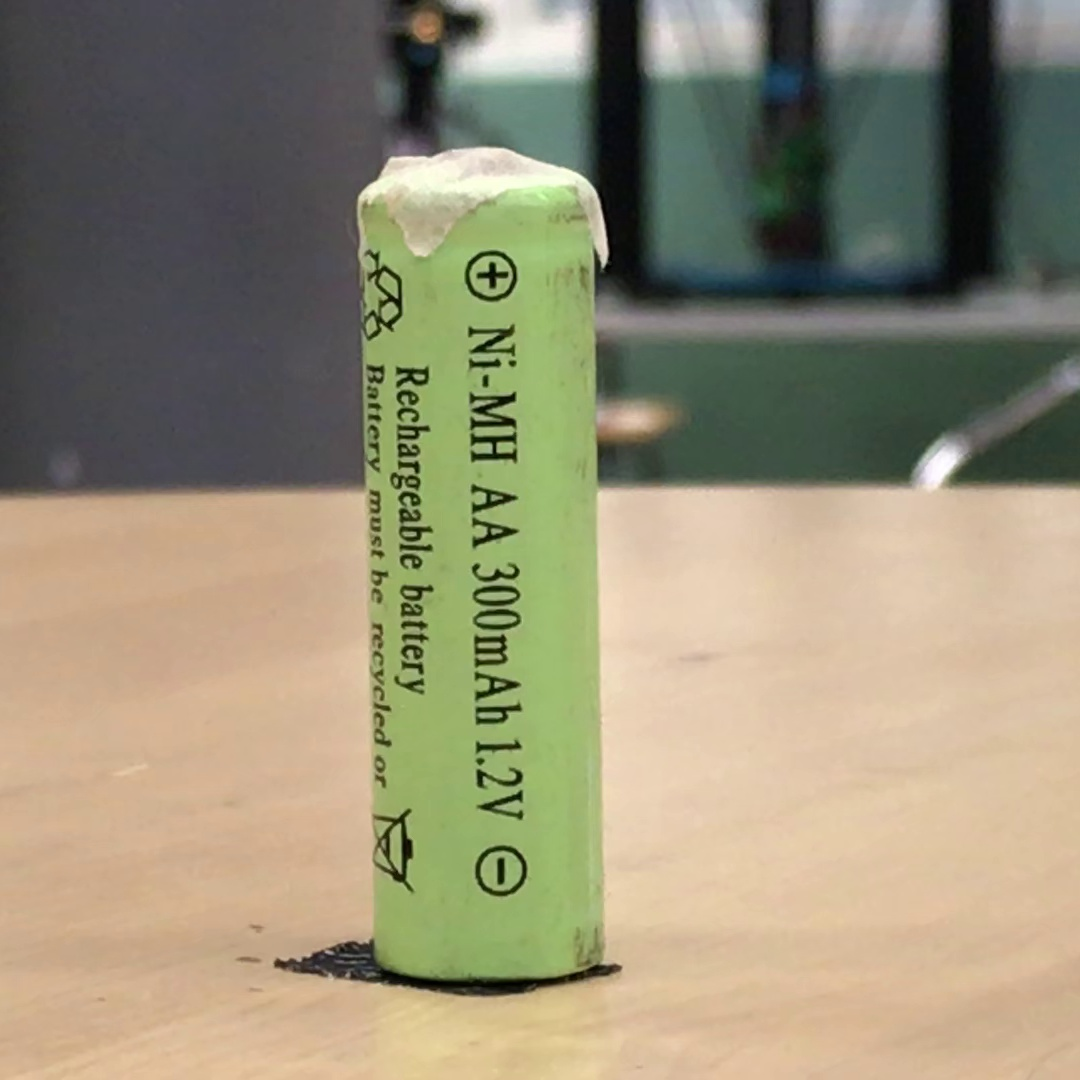keyword: (458, 314, 527, 465), (466, 730, 533, 830)
